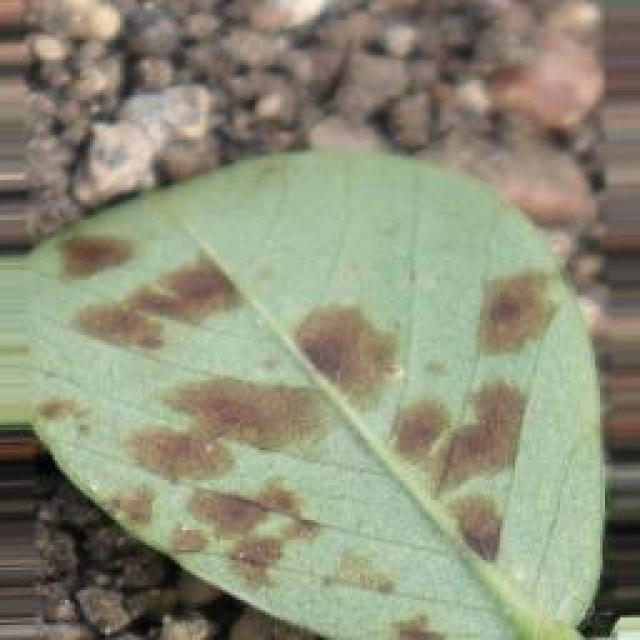Whitefly: (31, 137, 597, 640)
